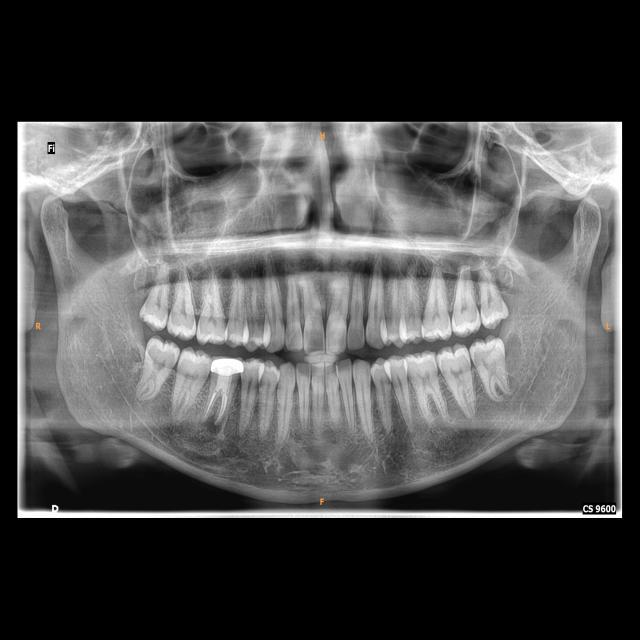kanal-tedavisi: (205, 376, 234, 421)
kaplama: (210, 356, 247, 380)
kok-enfeksiyonu: (194, 413, 230, 436)
